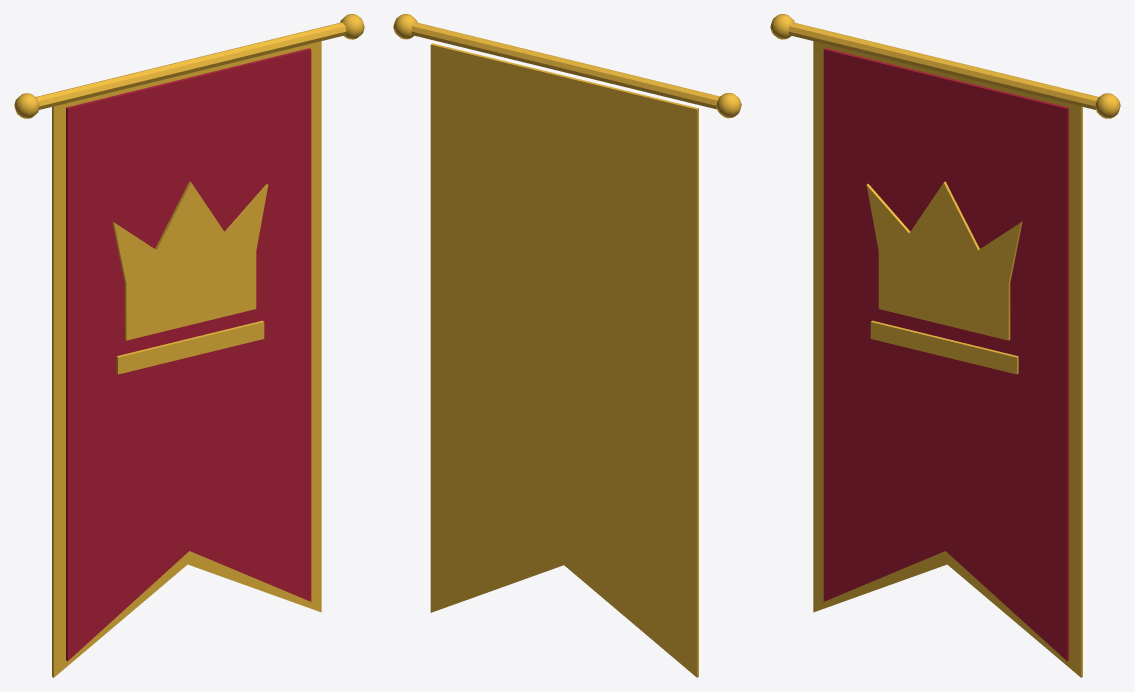
Rendered from crown_banner.glb.
3 renders of one model, left to right at view 1: azimuth 30°, elevation 25°; view 2: azimuth 150°, elevation 25°; view 3: azimuth 330°, elevation 25°, orthographic.
Visible parts, largest first — view 1: crown_banner; view 2: crown_banner; view 3: crown_banner.
Part boxes in pixels (x1,y1,x2,y2): crown_banner: (14,14,364,677); crown_banner: (393,14,741,677); crown_banner: (770,14,1120,677).
Size of the model in its own units: 1.71 by 2.79 by 0.1046.
